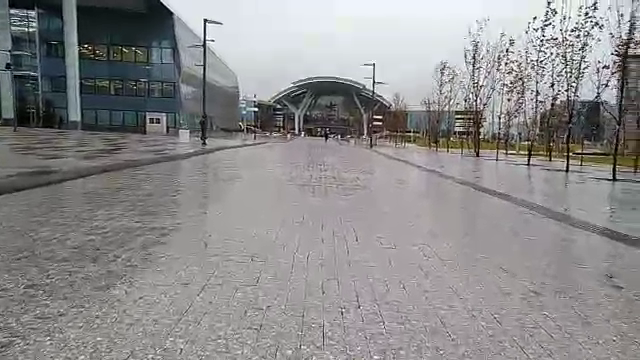mega: (265, 64, 395, 152)
